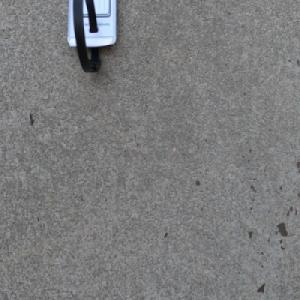LuggageTag: (63, 0, 119, 77)
